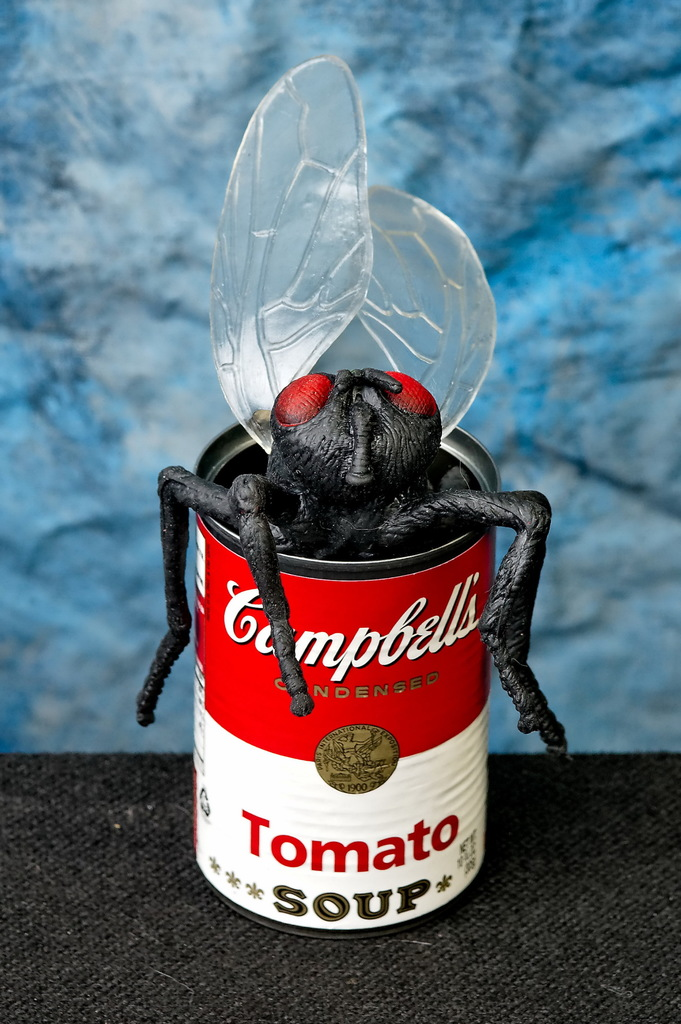Animal: (135, 61, 569, 757)
